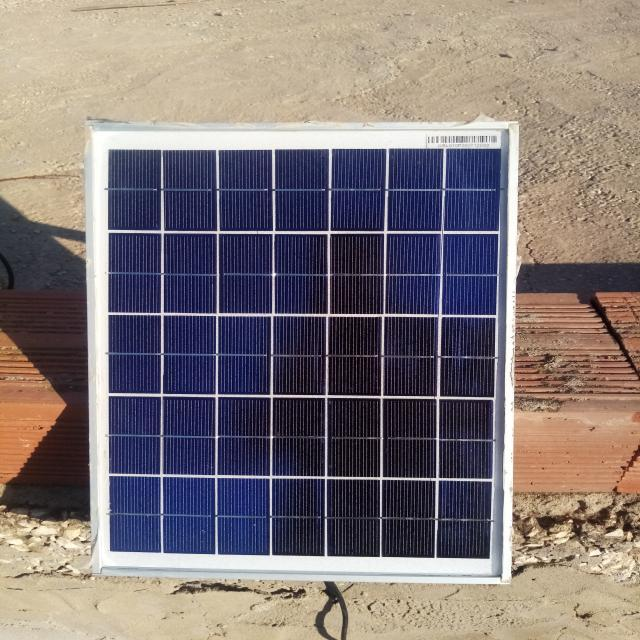no faulty: (88, 123, 519, 583)
